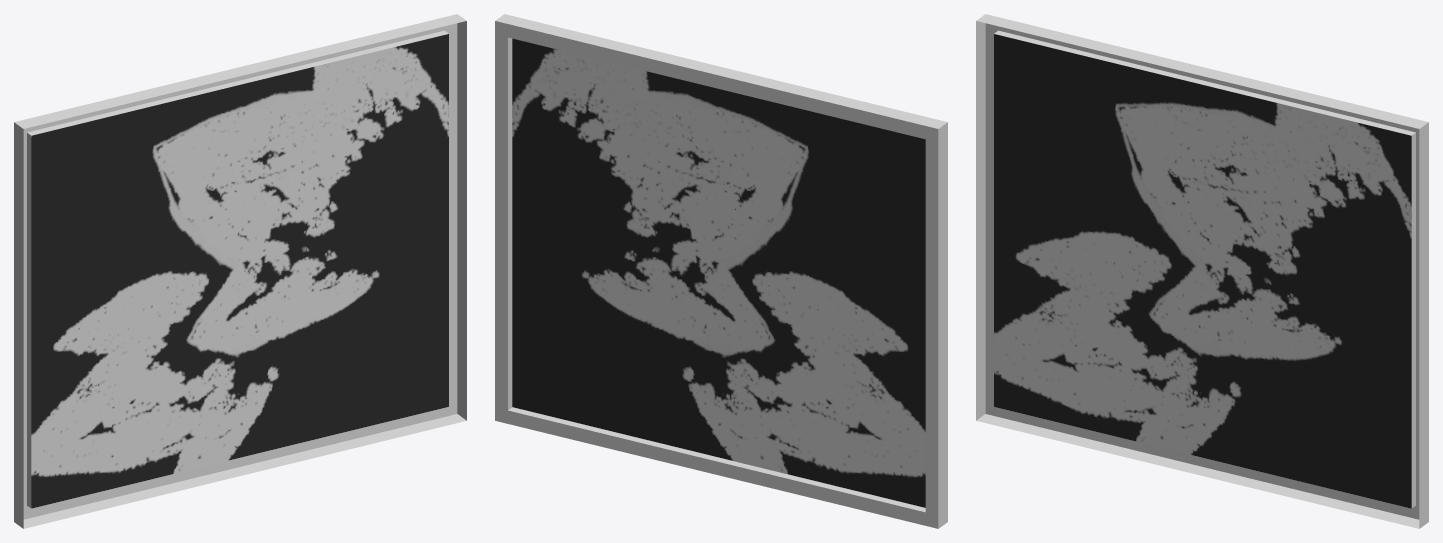
The model's file is M_lukisan 1.fbx.
The picture shows the model from 3 angles, left to right: view 1: azimuth 30°, elevation 25°; view 2: azimuth 150°, elevation 25°; view 3: azimuth 330°, elevation 25°; orthographic projection.
Visible parts, largest first — view 1: Cube.001; view 2: Cube.001; view 3: Cube.001.
Boxes of the visible parts, x1=… form: Cube.001: x1=14, y1=14, x2=466, y2=528; Cube.001: x1=495, y1=14, x2=947, y2=528; Cube.001: x1=976, y1=14, x2=1428, y2=528.
Bounding box in the file's own units: 193 × 166 × 7.08.
